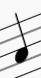A: (9, 11, 31, 76)
